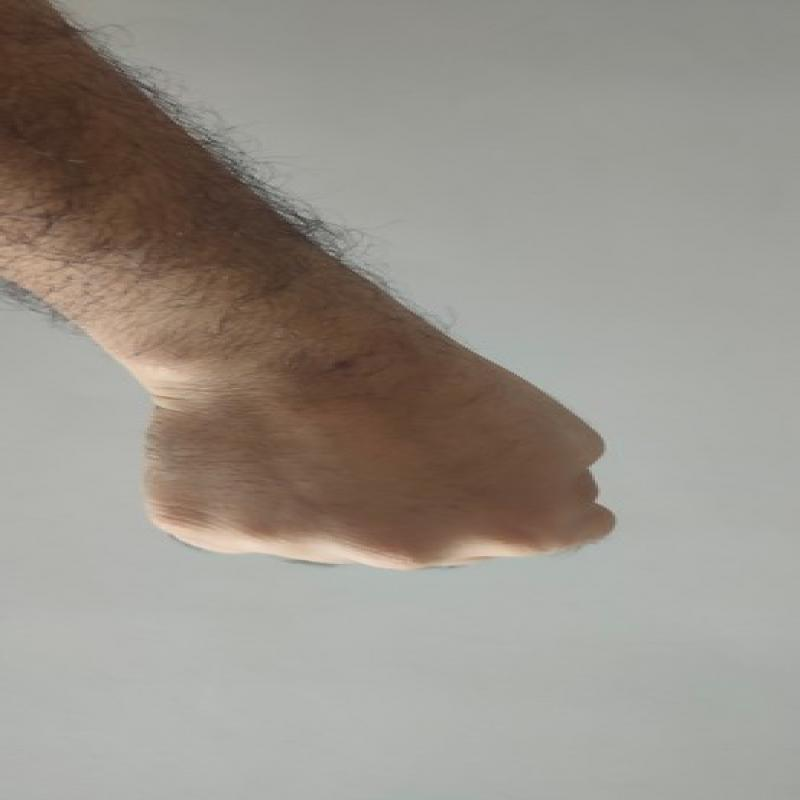Mushti: (121, 349, 635, 595)
